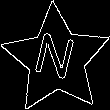N_S: (31, 30, 81, 89)
